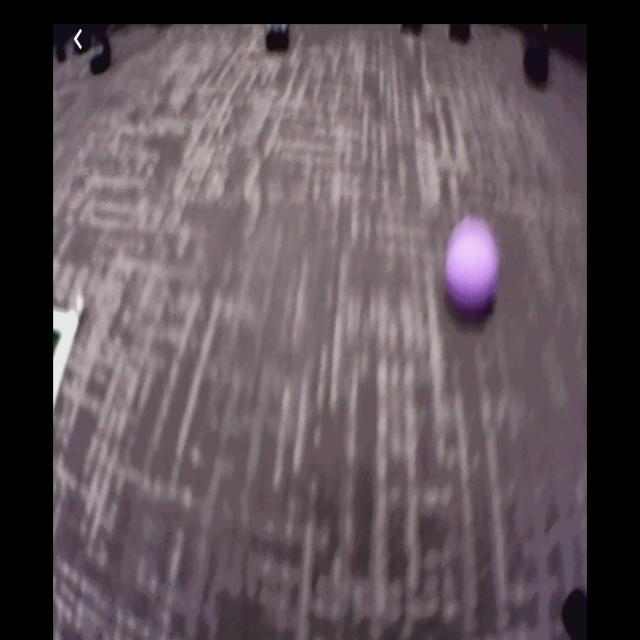ball: (445, 222, 500, 310)
